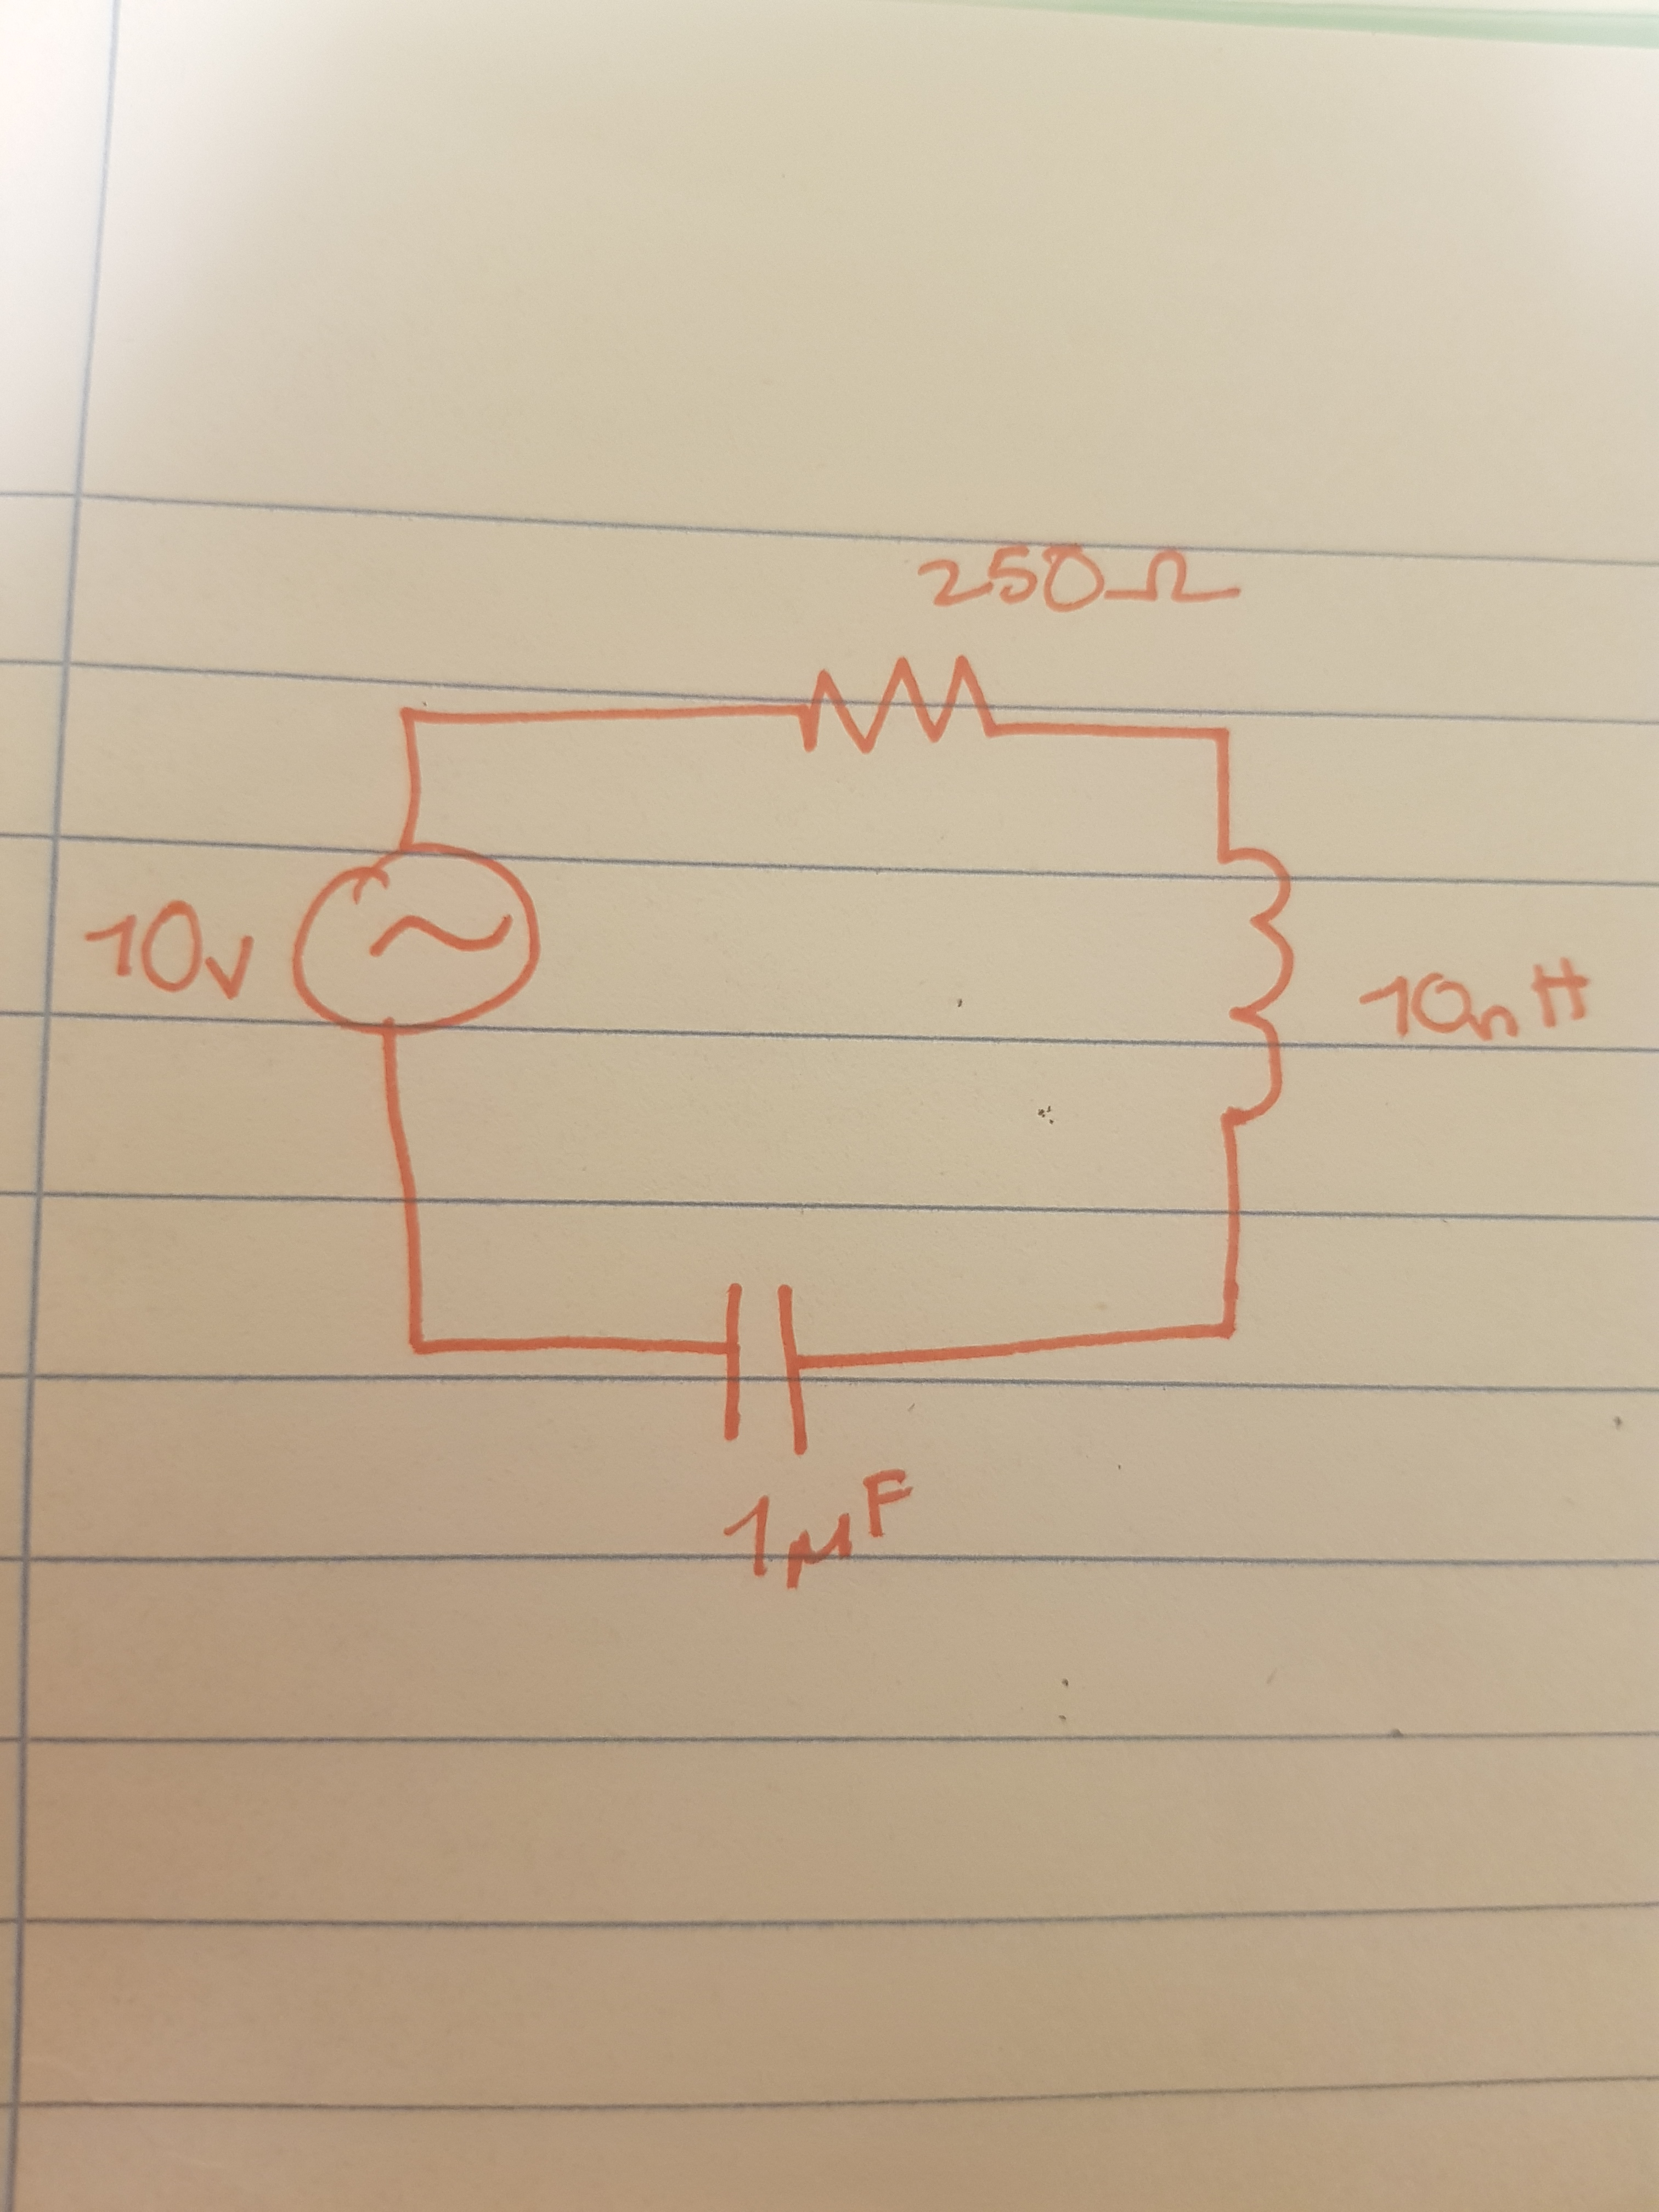capacitor.unpolarized: (695, 1254, 836, 1479)
inductor: (1197, 826, 1307, 1155)
junction: (1176, 1285, 1262, 1374), (373, 683, 450, 758), (380, 1306, 450, 1385), (1180, 700, 1251, 765)
resistor: (784, 641, 1004, 765)
text: (901, 521, 1255, 637), (1354, 946, 1598, 1069), (75, 888, 277, 1021), (727, 1465, 915, 1601)
voltage.dc: (284, 843, 556, 1052)
